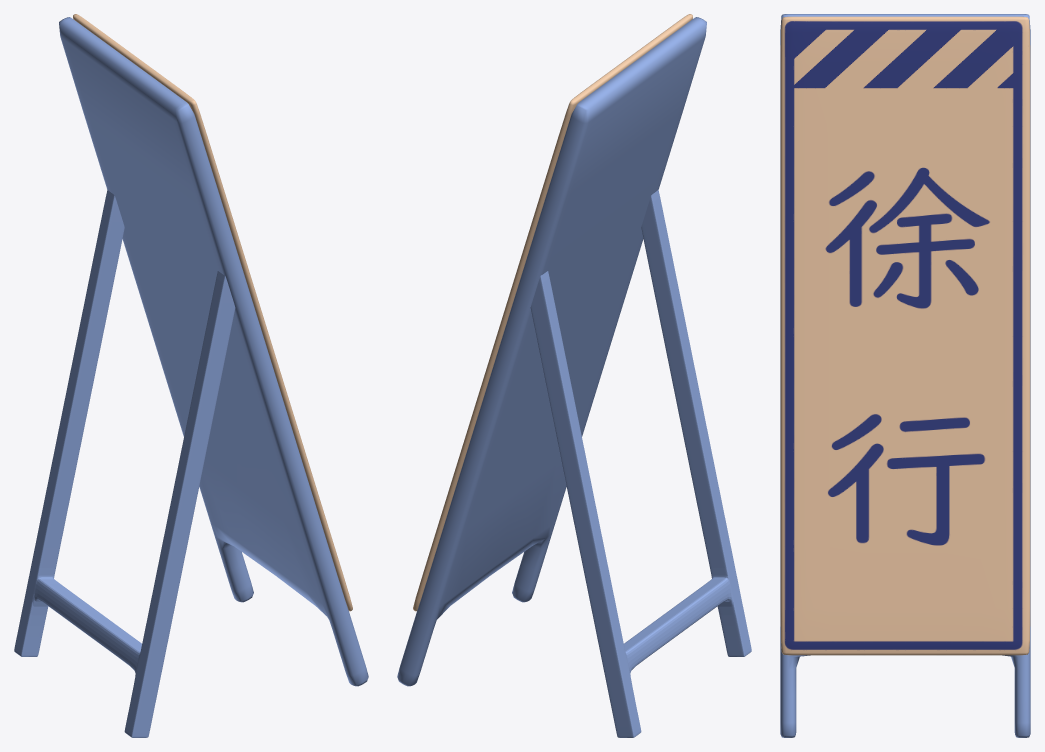
File: Signboard.fbx
3 renders of one model, left to right at view 1: azimuth 30°, elevation 25°; view 2: azimuth 150°, elevation 25°; view 3: azimuth 270°, elevation 25°, orthographic. The views are drawn at different scales.
Visible parts, largest first — view 1: signboard; view 2: signboard; view 3: signboard.
Boxes of the visible parts, x1=… form: signboard: x1=14, y1=14, x2=368, y2=737; signboard: x1=397, y1=14, x2=751, y2=737; signboard: x1=780, y1=14, x2=1030, y2=737.
Bounding box in the file's own units: 60.53 × 153 × 54.28.
Materials: 2 (1 with a texture image).
